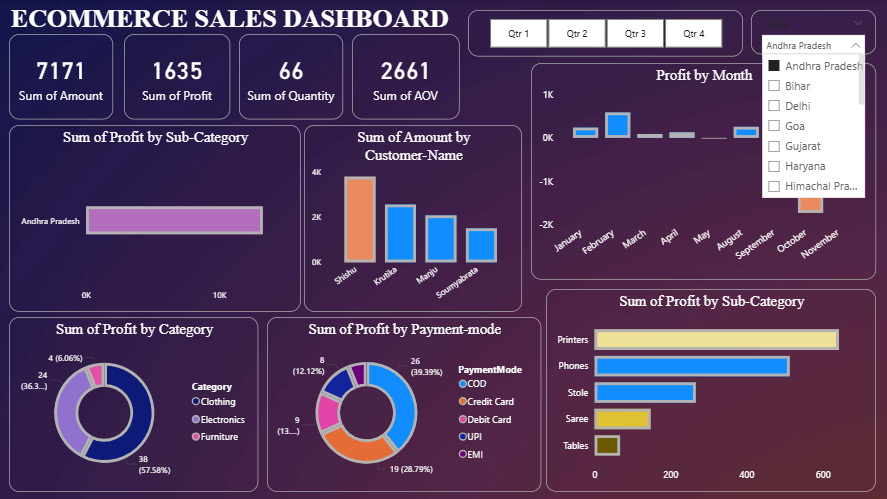

This screenshot's page, from the dashboard's own definition file:
{"tool":"powerbi","page":{"name":"Page 1","canvas":[1280,720],"ordinal":0},"visuals":[{"type":"textbox","box":[0,0,661.8,67.2],"z":0},{"type":"columnChart","title":"Profit by Month","fields":{"Y":["Sum(Details.Profit)"],"Category":["Orders.Order Date.Variation.Date Hierarchy.Month"]},"box":[764.3,90.7,497.2,312.4],"z":1000},{"type":"barChart","title":"Sum of Profit by Sub-Category","fields":{"Y":["Sum(Details.Profit)"],"Category":["Details.Sub-Category"]},"box":[786.1,416.6,475.4,292.3],"z":2000},{"type":"donutChart","title":"Sum of Profit by Category","fields":{"Y":["Sum(Details.Quantity)"],"Category":["Details.Category"]},"box":[13.4,456.9,359.5,252],"z":3000},{"type":"donutChart","title":"Sum of Profit by Payment-mode","fields":{"Y":["Sum(Details.Quantity)"],"Category":["Details.PaymentMode"]},"box":[384.7,456.9,394.8,252],"z":4000},{"type":"card","title":"Sum of Profit by Sub-Category","fields":{"Values":["Sum(Details.Quantity)"]},"box":[344.4,48.7,149.5,122.6],"z":5000},{"type":"card","title":"Sum of Profit by Sub-Category","fields":{"Values":["Sum(Details.Profit)"]},"box":[178.1,48.7,152.9,122.6],"z":6000},{"type":"card","title":"Sum of Profit by Sub-Category","fields":{"Values":["Sum(Details.Amount)"]},"box":[13.4,48.7,149.5,122.6],"z":7000},{"type":"card","title":"Sum of Profit by Sub-Category","fields":{"Values":["Sum(Details.AOV)"]},"box":[507.3,48.7,154.5,122.6],"z":8000},{"type":"barChart","title":"Sum of Profit by Sub-Category","fields":{"Y":["Sum(Details.Amount)"],"Category":["Orders.State"]},"box":[13.4,179.7,419.9,268.8],"z":9000},{"type":"columnChart","title":"Sum of Amount by Customer-Name","fields":{"Category":["Orders.CustomerName"],"Y":["Sum(Details.Amount)"]},"box":[438.4,179.7,314.1,268.8],"z":10000},{"type":"slicer","fields":{"Values":["Orders.State"]},"box":[1081.8,15.1,179.7,63.8],"z":11000},{"type":"slicer","fields":{"Values":["Orders.Order Date.Variation.Date Hierarchy.Quarter"]},"box":[673.6,15.1,396.4,67.2],"z":12000}]}

Visuals, with their boxes in screenshot pixels (x1, y1, x2, y2), scaled from the page's 1280x720 canvas onto the 887x499 screenshot:
textbox: select_region(0, 0, 459, 47)
"Profit by Month" columnChart: select_region(530, 63, 874, 279)
"Sum of Profit by Sub-Category" barChart: select_region(545, 289, 874, 491)
"Sum of Profit by Category" donutChart: select_region(9, 317, 258, 491)
"Sum of Profit by Payment-mode" donutChart: select_region(267, 317, 540, 491)
"Sum of Profit by Sub-Category" card: select_region(239, 34, 342, 119)
"Sum of Profit by Sub-Category" card: select_region(123, 34, 229, 119)
"Sum of Profit by Sub-Category" card: select_region(9, 34, 113, 119)
"Sum of Profit by Sub-Category" card: select_region(352, 34, 459, 119)
"Sum of Profit by Sub-Category" barChart: select_region(9, 125, 300, 311)
"Sum of Amount by Customer-Name" columnChart: select_region(304, 125, 521, 311)
slicer - Orders.State: select_region(750, 10, 874, 55)
slicer - Orders.Order Date.Variation.Date Hierarchy.Quarter: select_region(467, 10, 741, 57)
